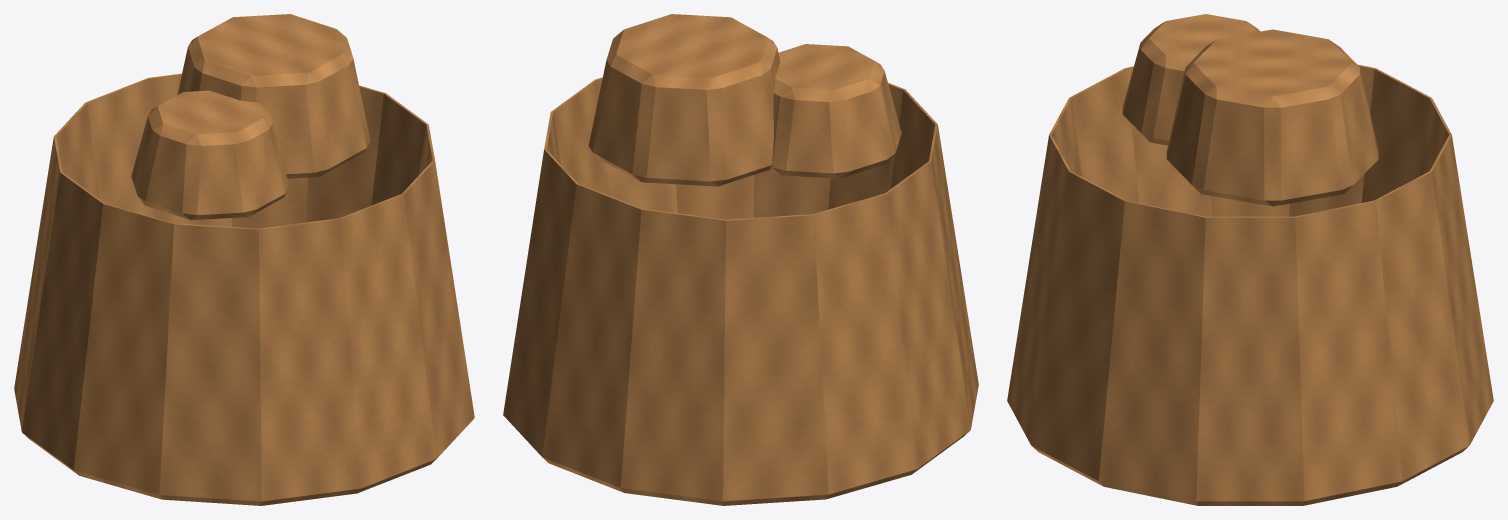
Rendered from LaundryBasket.glb.
3 views of the same model, side by side, from view 1: azimuth 30°, elevation 25°; view 2: azimuth 150°, elevation 25°; view 3: azimuth 270°, elevation 25° (orthographic). The views are drawn at different scales.
Parts seen in each view (by area): view 1: LaundryBasket; view 2: LaundryBasket; view 3: LaundryBasket.
Boxes of the visible parts, x1,y1,x2,y2 form: LaundryBasket: (14, 14, 474, 505); LaundryBasket: (503, 14, 978, 505); LaundryBasket: (1007, 14, 1493, 505).
Size of the model in its own units: 1.07 by 0.905 by 1.09.
1 material, 1 textured.
